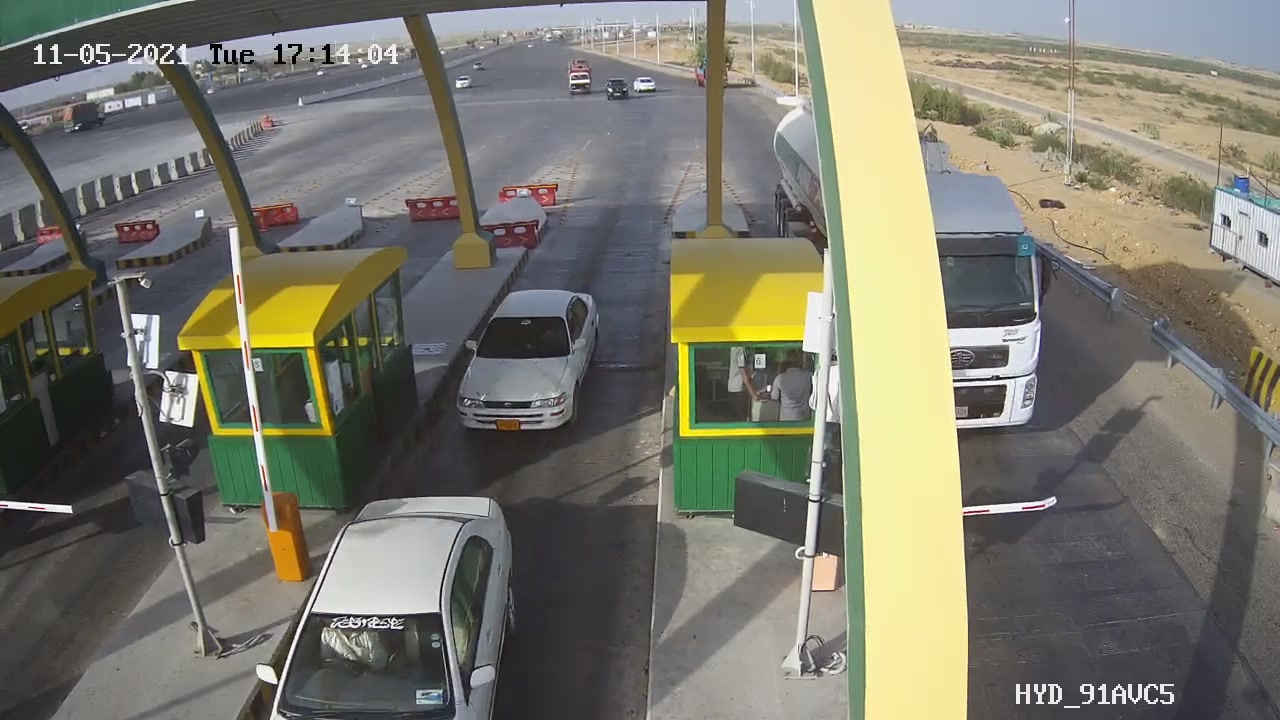F1: (442, 277, 620, 443)
